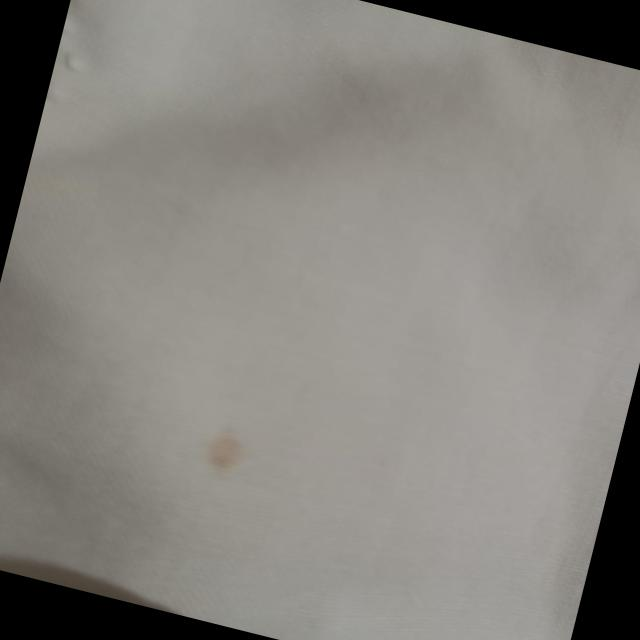stain: (183, 412, 268, 490)
